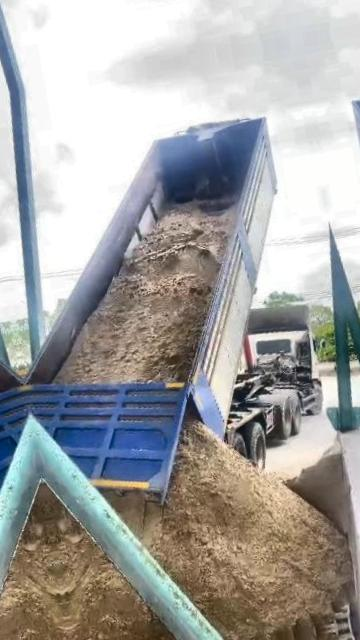sand: (108, 422, 352, 640), (54, 203, 233, 382), (42, 484, 182, 640), (286, 442, 352, 536), (182, 401, 200, 429)
